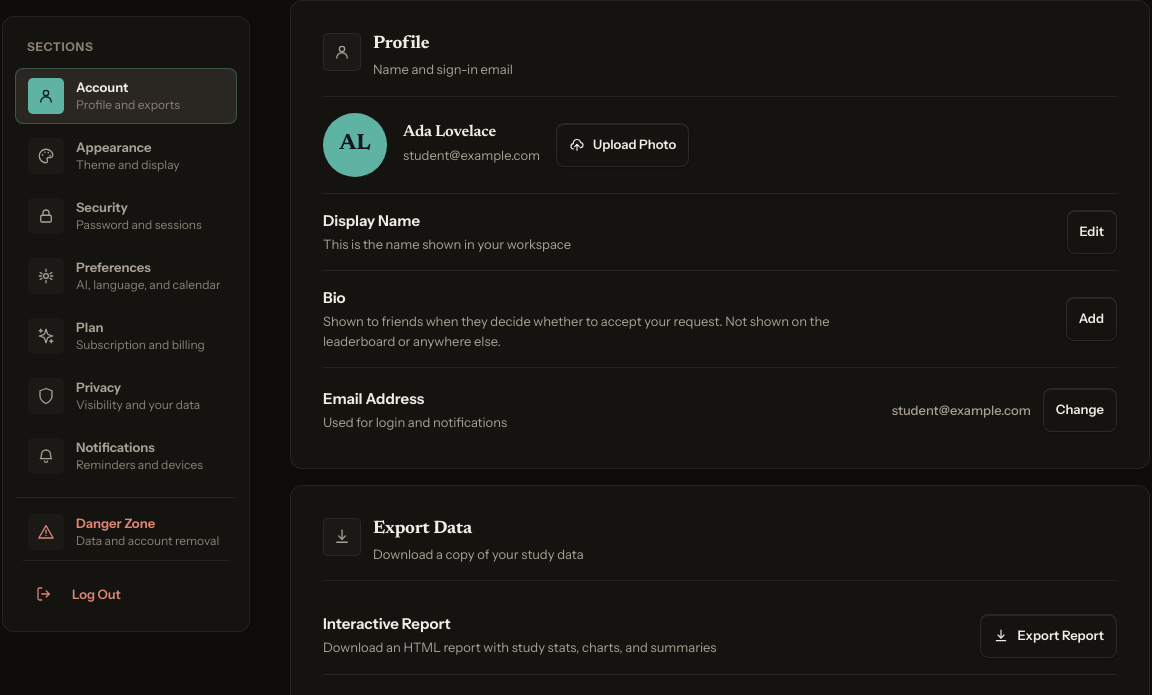
Test: SettingsView › switches the rendered panel on click
The image size is (1152, 695).
Check: the heading "Profile" is shown, box [373,35,429,53]
Click the tab "Security Password and sessions" at {"x": 126, "y": 216}, box [15,188,237,244]
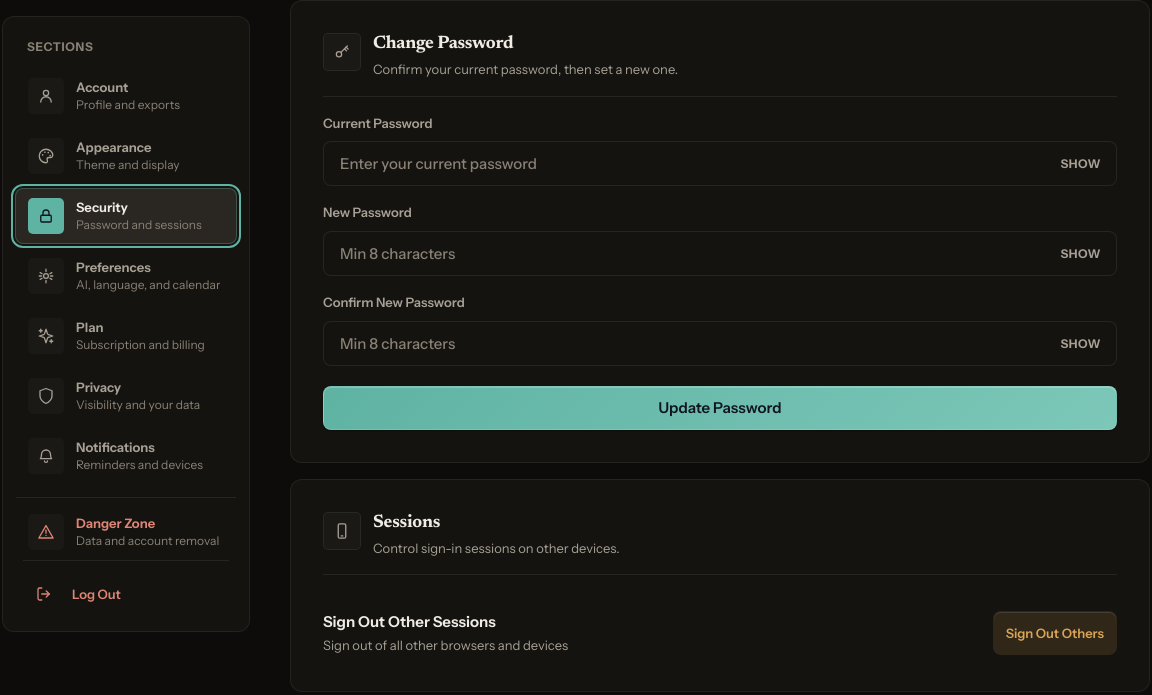
Check: the heading "Change Password" is shown, box [373,35,513,53]
